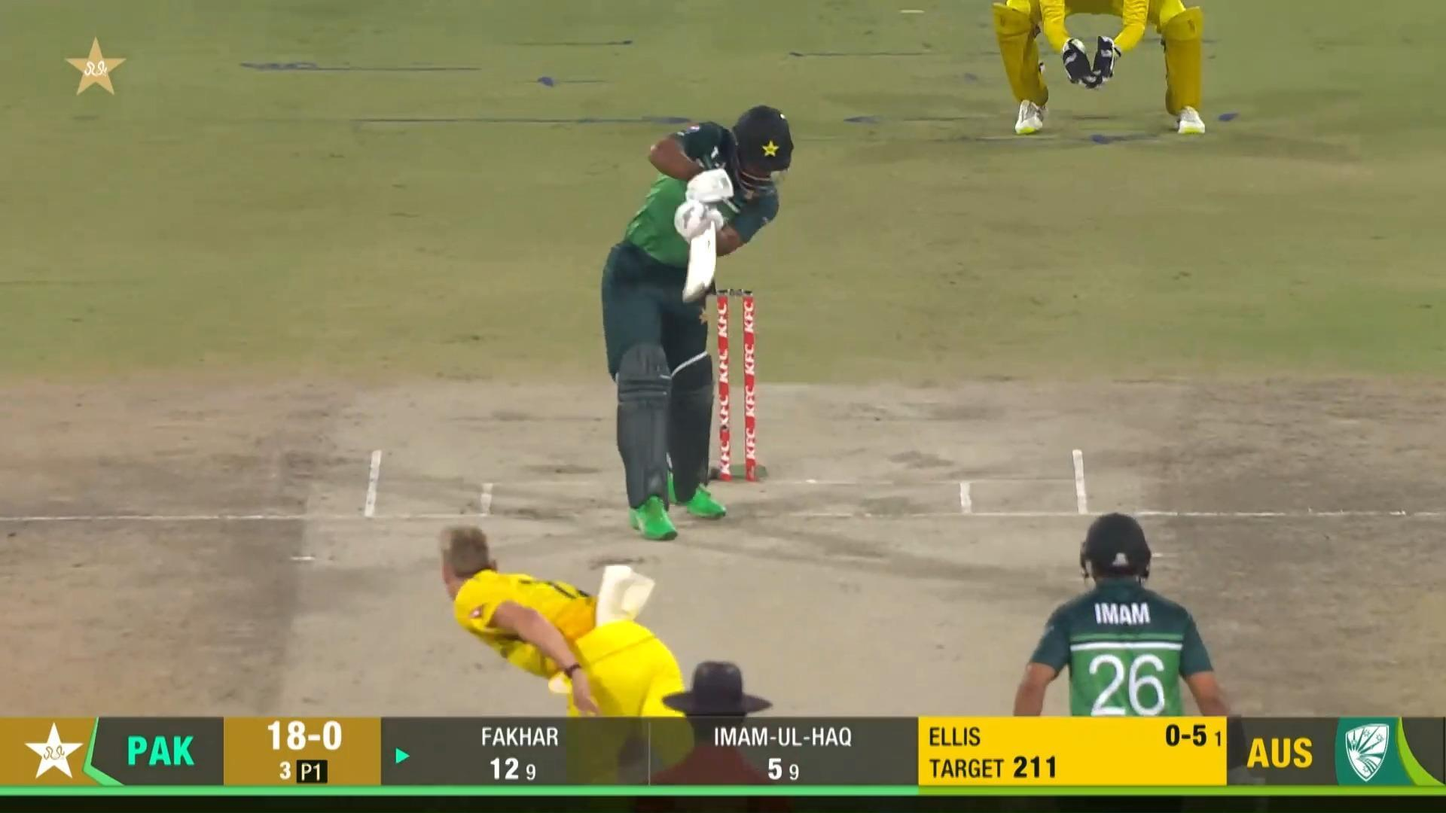BM 1: (601, 105, 795, 542)
BO: (438, 523, 698, 785)
